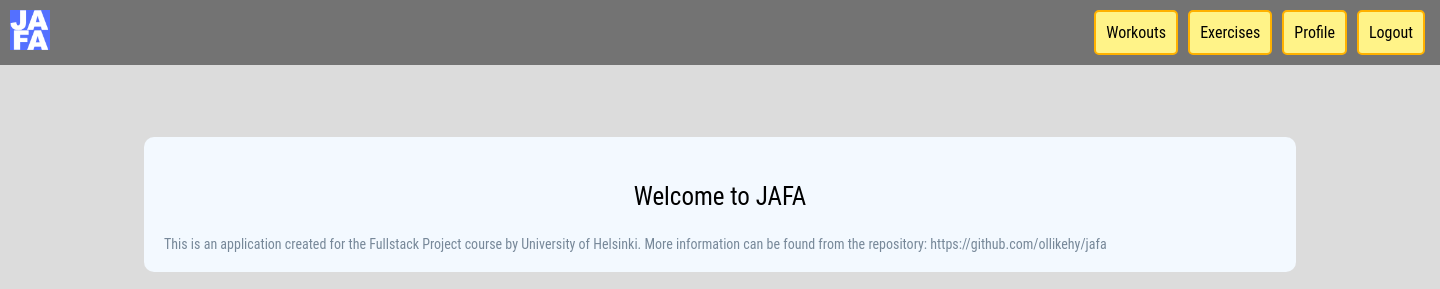
Test case: Logging in › User can logout from the site
This screenshot has width=1440, height=289.
Click the text "Logout" at (1391, 33), box [1357,10,1425,55]
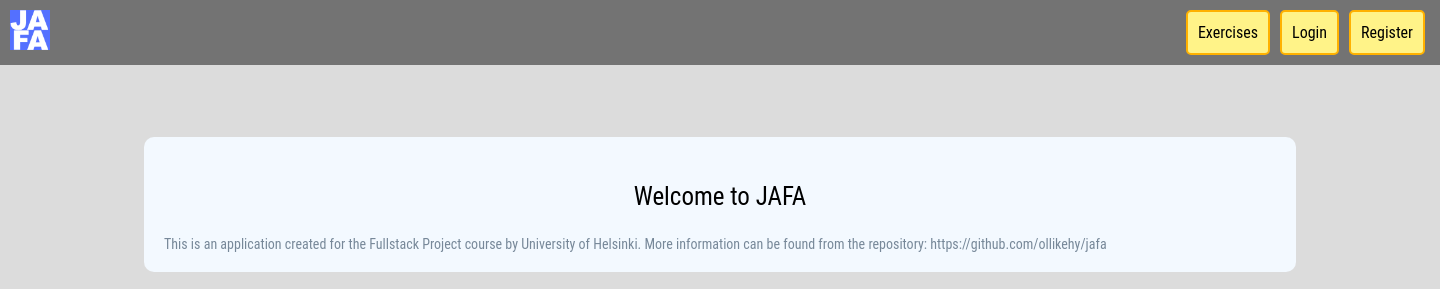
expect the link "Register" is shown: met, box [1349,10,1425,55]
